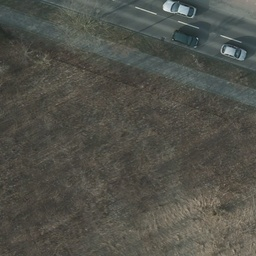car: (163, 1, 196, 20), (219, 44, 246, 61), (171, 32, 199, 48)
